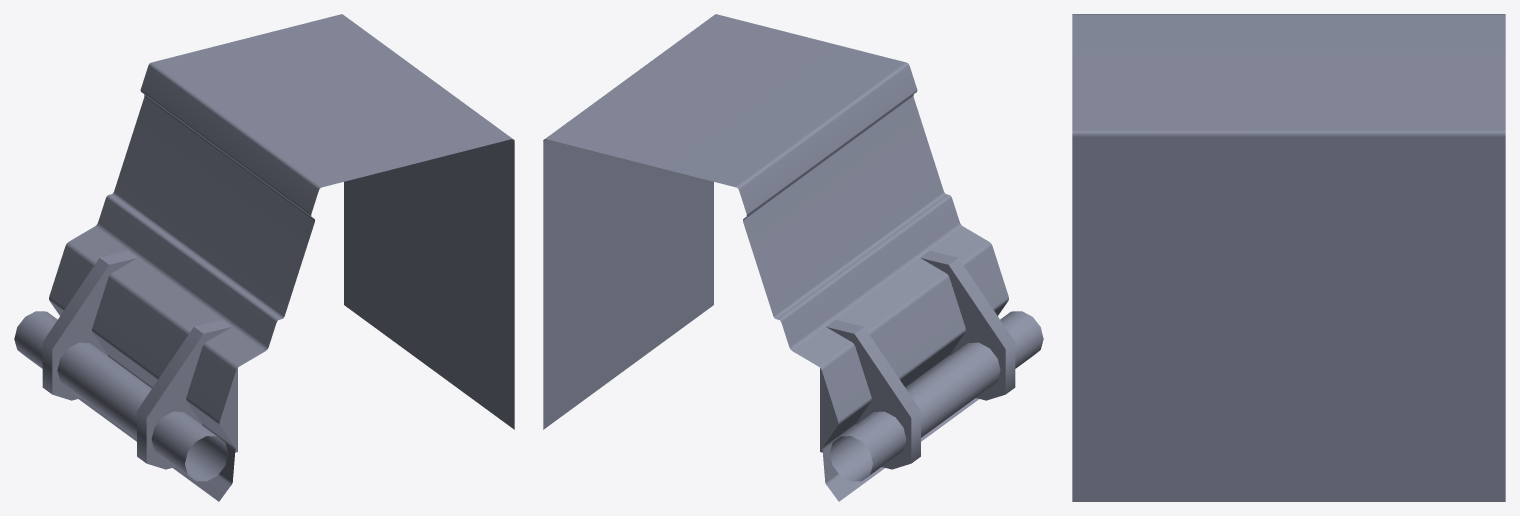
File: Wall3TEST.fbx
The picture shows the model from 3 angles, left to right: view 1: azimuth 30°, elevation 25°; view 2: azimuth 150°, elevation 25°; view 3: azimuth 270°, elevation 25°; orthographic projection. The views are drawn at different scales.
Visible parts, largest first — view 1: Wall3; view 2: Wall3; view 3: Wall3.
Part boxes in pixels (x1,y1,x2,y2): Wall3: (14,14,514,501); Wall3: (543,14,1043,501); Wall3: (1072,14,1505,501).
Bounding box in the file's own units: 1.13 × 0.9425 × 1.
